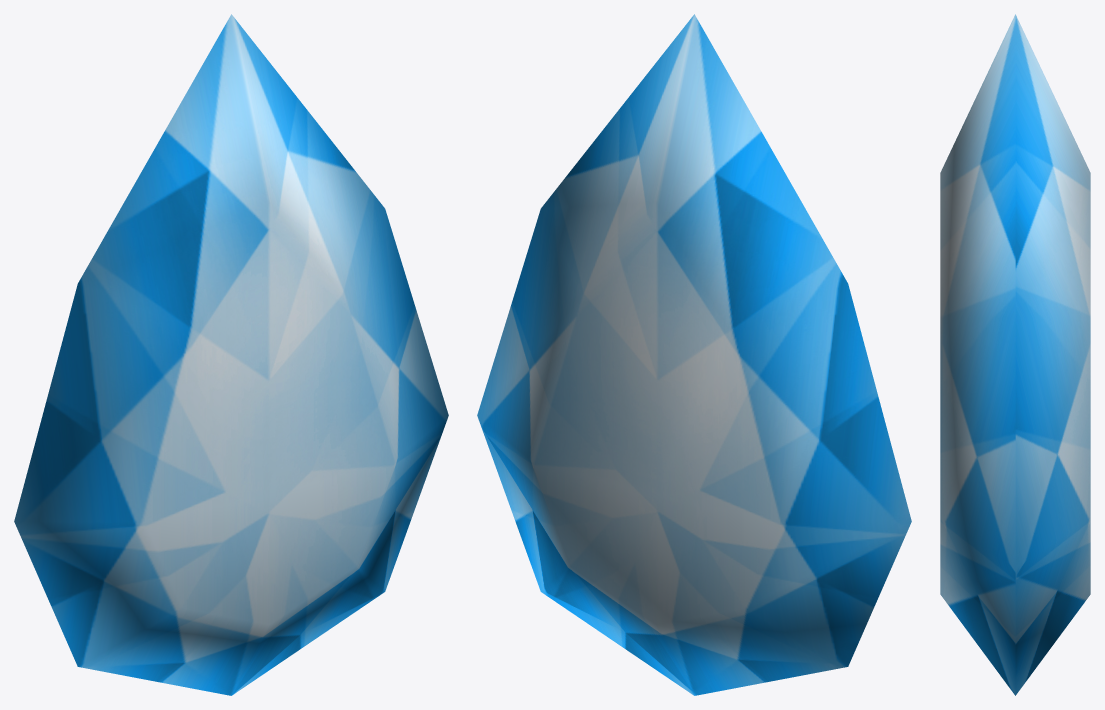
The model's file is Gem-Drop.fbx.
3 renders of one model, left to right at view 1: azimuth 30°, elevation 25°; view 2: azimuth 150°, elevation 25°; view 3: azimuth 270°, elevation 25°, orthographic.
Parts seen in each view (by area): view 1: Gem-Drop; view 2: Gem-Drop; view 3: Gem-Drop.
Part boxes in pixels (x1,y1,x2,y2): Gem-Drop: [14, 14, 448, 695]; Gem-Drop: [477, 14, 911, 695]; Gem-Drop: [940, 14, 1090, 695].
Bounding box in the file's own units: 1.44 × 2.16 × 0.4361.
